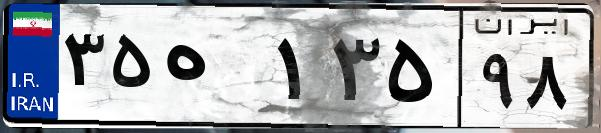1: (270, 28, 330, 110)
3: (330, 28, 385, 110), (57, 26, 110, 100)
5: (385, 28, 445, 110), (110, 28, 158, 98)
8: (525, 38, 570, 115)
9: (475, 38, 525, 113)
ه: (158, 20, 270, 120)
